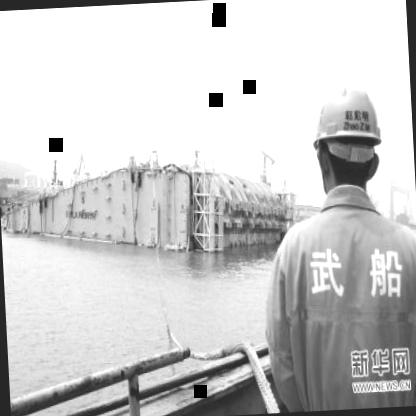helmet: (302, 59, 396, 208)
